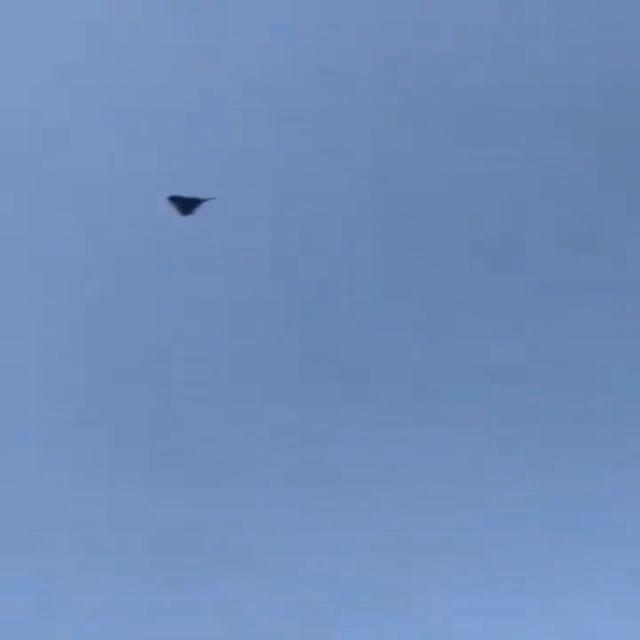drone: (167, 188, 216, 221)
